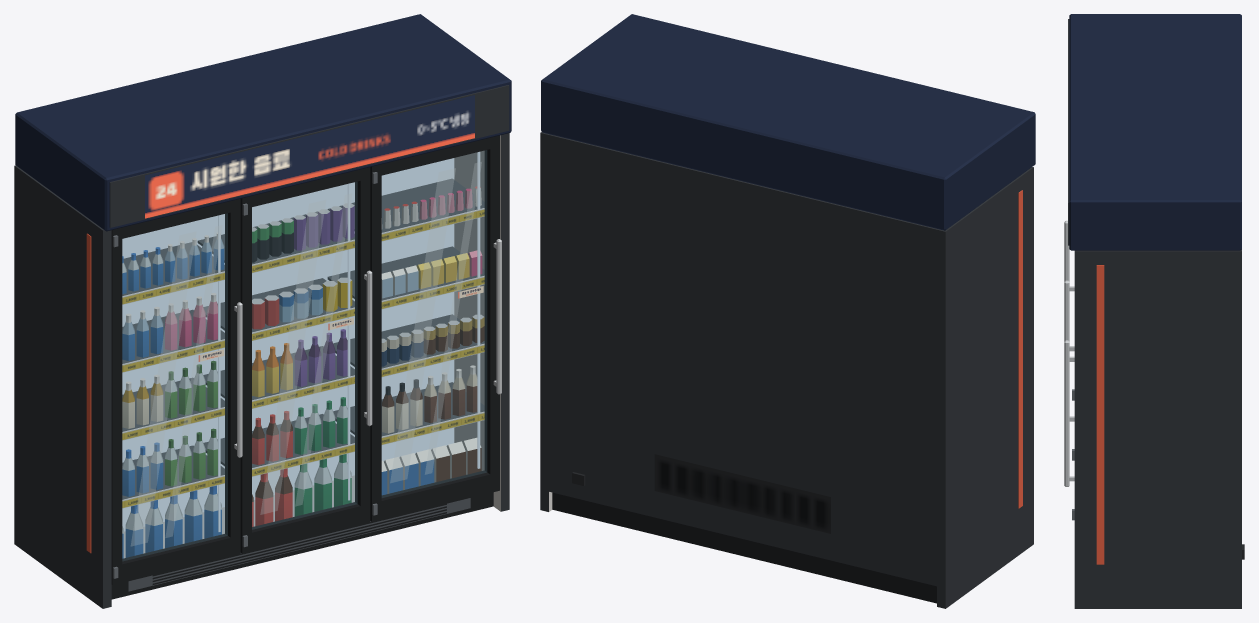
File: SC_Fix_Fridge_Drinks_3Door.gltf
The picture shows the model from 3 angles, left to right: view 1: azimuth 30°, elevation 25°; view 2: azimuth 150°, elevation 25°; view 3: azimuth 270°, elevation 25°; orthographic projection. The views are drawn at different scales.
Visible parts, largest first — view 1: SC_Fix_Fridge_Drinks_3Door; view 2: SC_Fix_Fridge_Drinks_3Door; view 3: SC_Fix_Fridge_Drinks_3Door.
Part boxes in pixels (x1,y1,x2,y2): SC_Fix_Fridge_Drinks_3Door: [14, 14, 511, 608]; SC_Fix_Fridge_Drinks_3Door: [540, 14, 1035, 608]; SC_Fix_Fridge_Drinks_3Door: [1064, 14, 1244, 608].
Size of the model in its own units: 2.08 by 2.1 by 0.84.
Materials: 5 (5 with a texture image).
